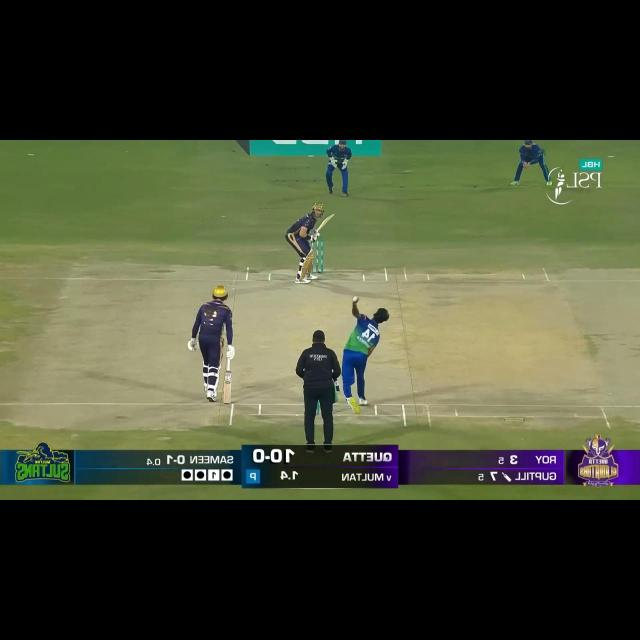bat: (316, 214, 336, 232), (223, 372, 232, 403)
toe: (222, 396, 232, 403), (329, 214, 335, 218)
